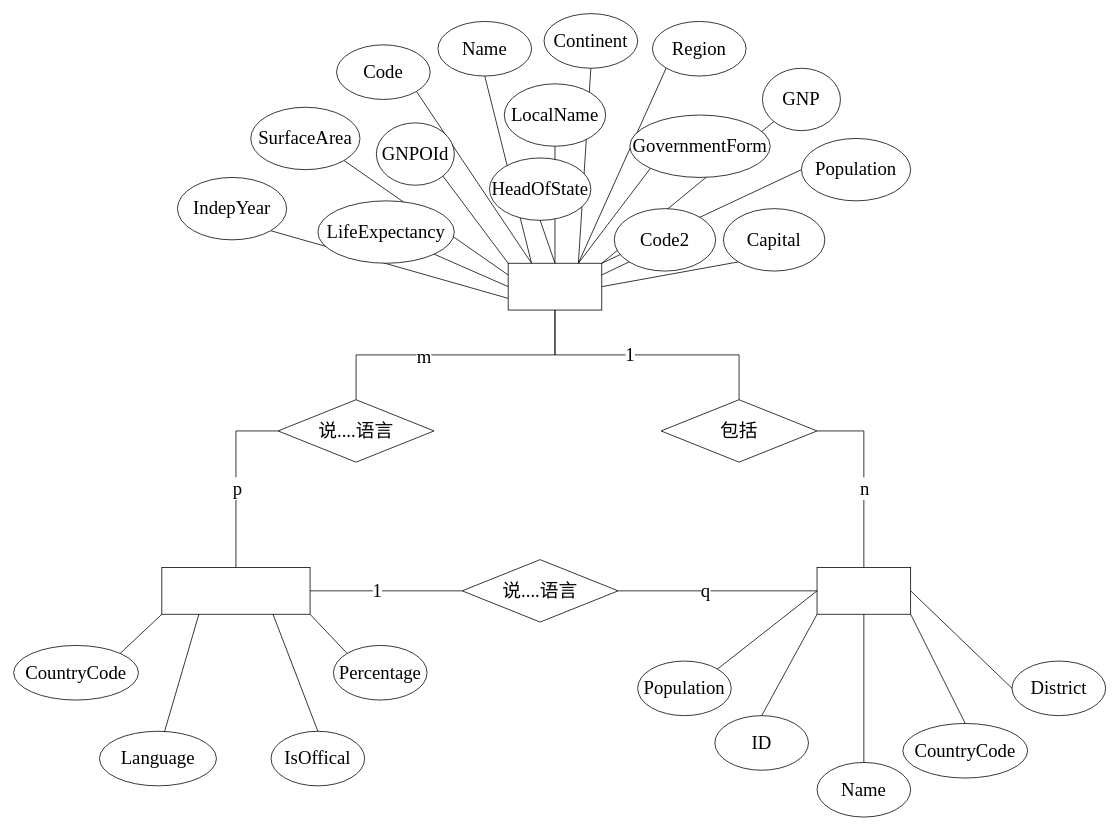
This 1119x831 diagram has some shape labels left out. Here are the shapes that lost their labels. From the top down, the centre of each, then its label:
point 554,286: country
point 235,590: countryLanguage
point 863,590: city
